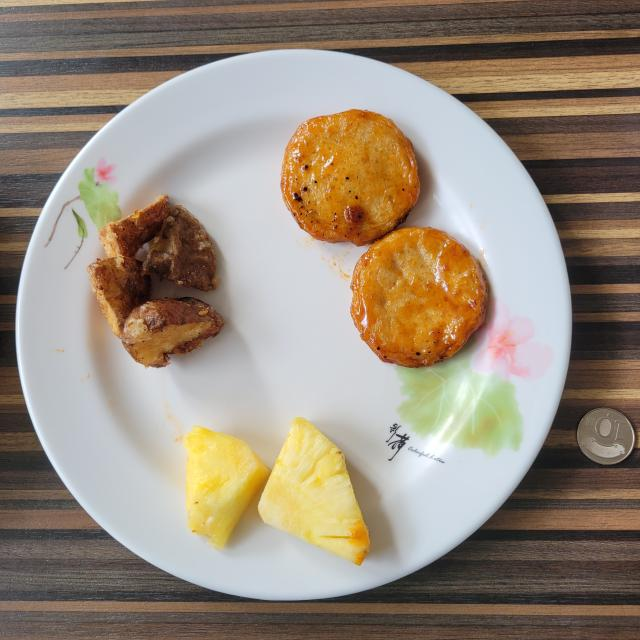coin: (578, 408, 635, 465)
fish cake: (281, 109, 489, 368), (180, 334, 181, 335)
fried potato: (88, 195, 225, 368)
pineapple: (185, 418, 370, 565)
